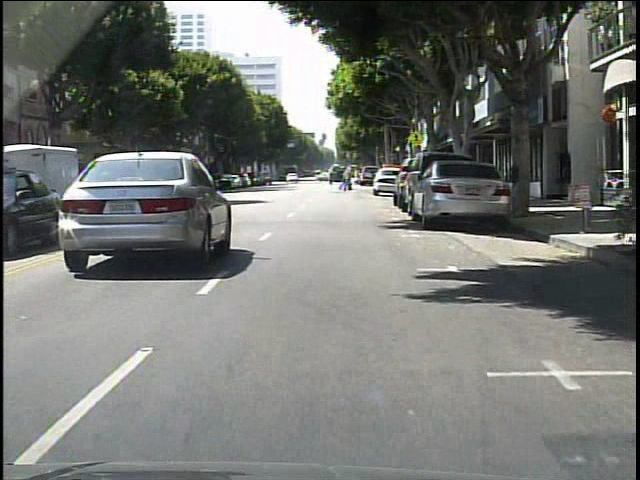person: (342, 165, 355, 191)
